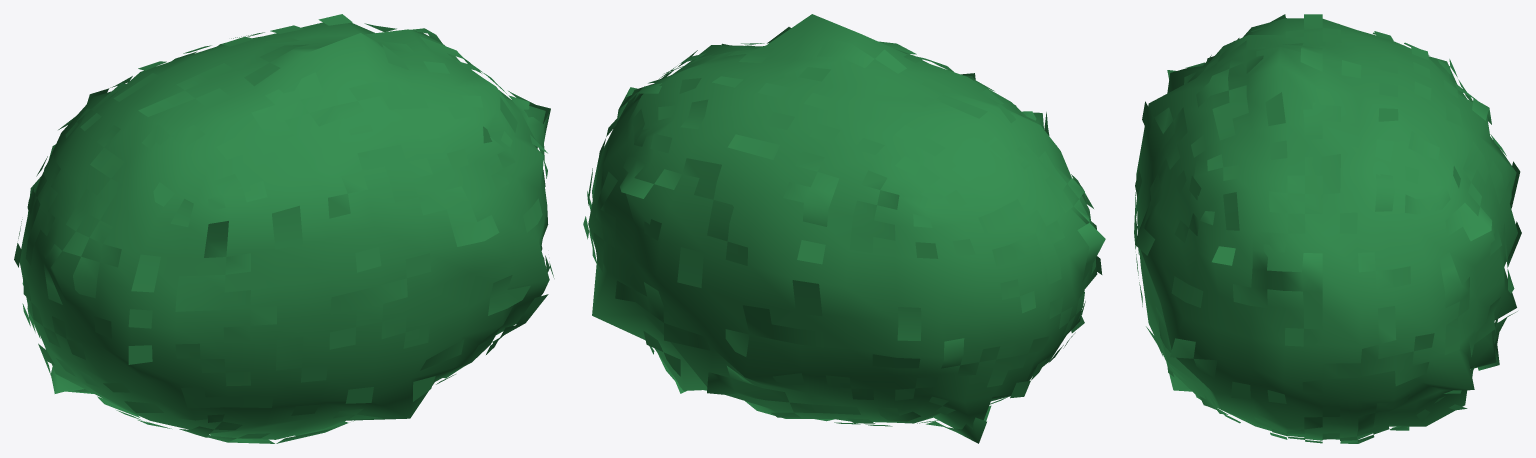
File: Model-bush.fbx
3 views of the same model, side by side, from view 1: azimuth 30°, elevation 25°; view 2: azimuth 150°, elevation 25°; view 3: azimuth 270°, elevation 25° (orthographic). The views are drawn at different scales.
Parts seen in each view (by area): view 1: Cube.001; view 2: Cube.001; view 3: Cube.001.
Part boxes in pixels (box(x1,y1,x2,y2)): Cube.001: box(14, 14, 554, 443); Cube.001: box(583, 14, 1105, 443); Cube.001: box(1134, 14, 1521, 443).
Size of the model in its own units: 2.32 by 1.72 by 1.6.
